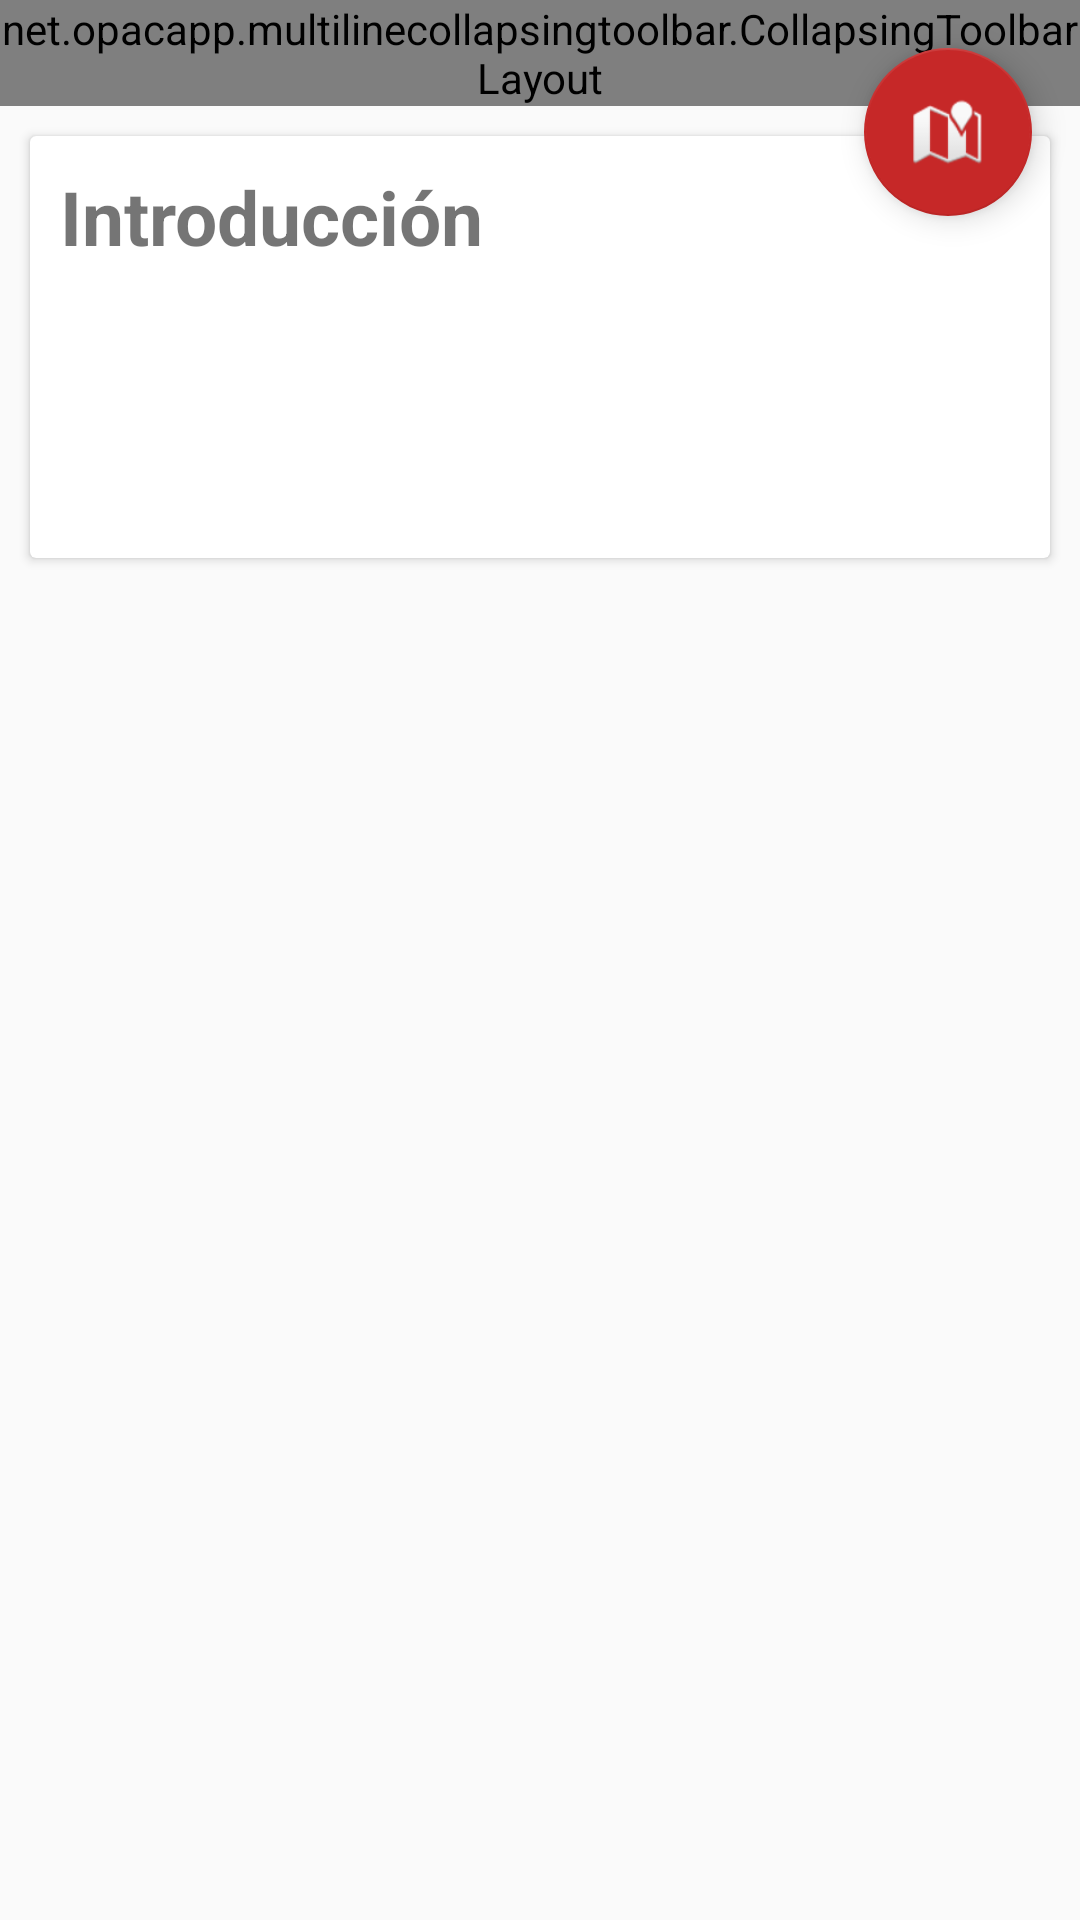

Icon click points for this 1080px x 1920px phone screenshot, format point (x, y):
map: point (948, 132)
